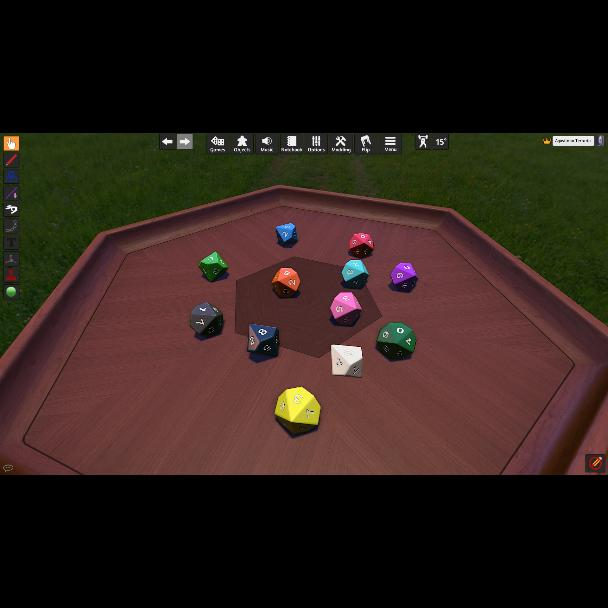d10: (275, 387, 321, 433), (377, 323, 414, 359), (190, 302, 222, 338), (248, 323, 278, 357), (330, 292, 361, 324), (330, 344, 361, 376), (272, 266, 302, 298), (200, 252, 228, 282), (390, 262, 418, 292), (341, 260, 369, 288), (348, 232, 374, 258), (274, 222, 298, 246)
